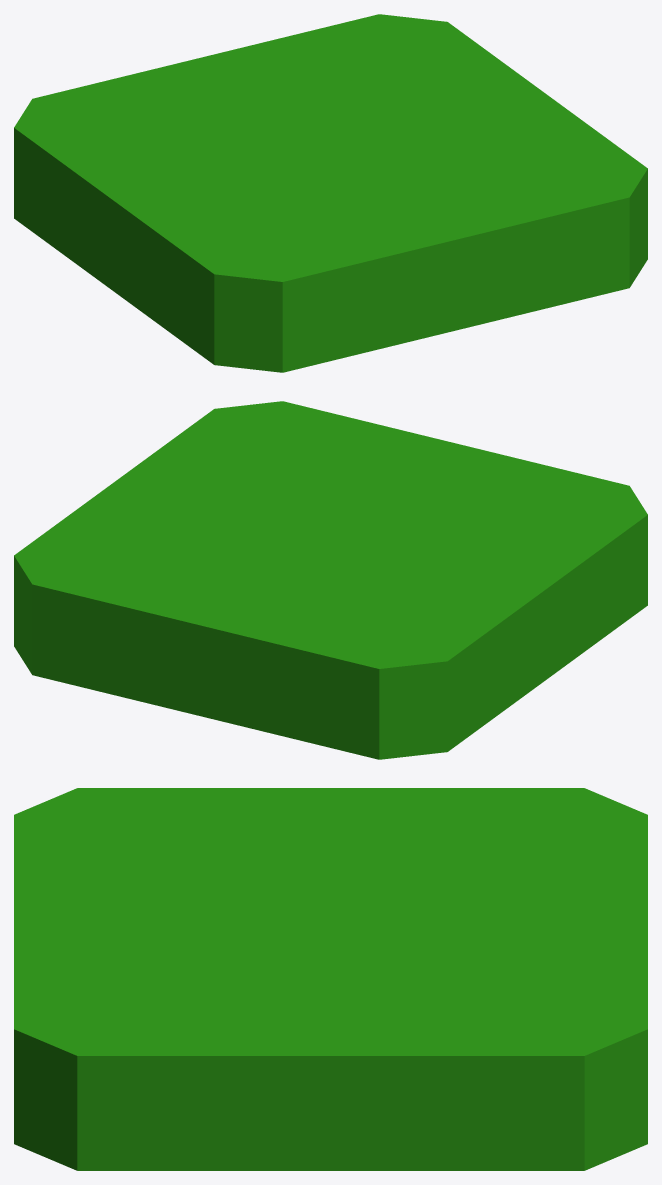
3 renders of one model, top to bottom at view 1: azimuth 30°, elevation 25°; view 2: azimuth 150°, elevation 25°; view 3: azimuth 270°, elevation 25°, orthographic. The views are drawn at different scales.
Parts seen in each view (by area): view 1: Base_000; view 2: Base_000; view 3: Base_000.
Part boxes in pixels (x1,y1,x2,y2): Base_000: [14, 14, 647, 372]; Base_000: [14, 401, 647, 759]; Base_000: [14, 788, 647, 1170].
Bounding box in the file's own units: 1 × 1 × 0.2.
